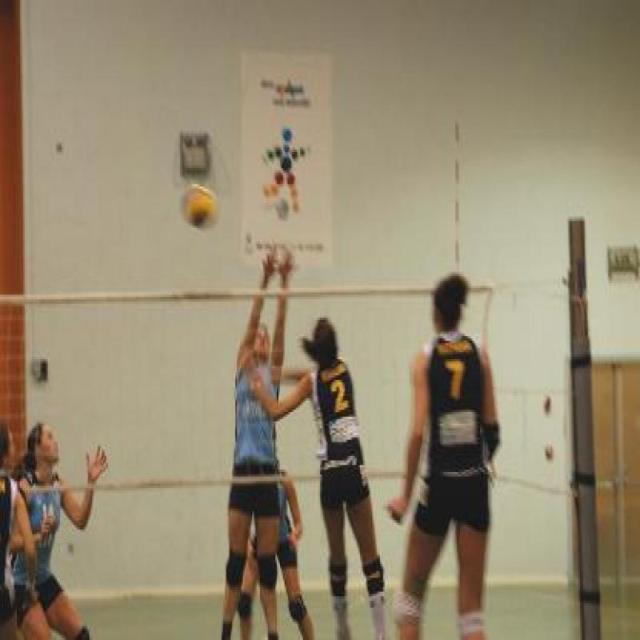volleyball: (178, 182, 220, 230)
